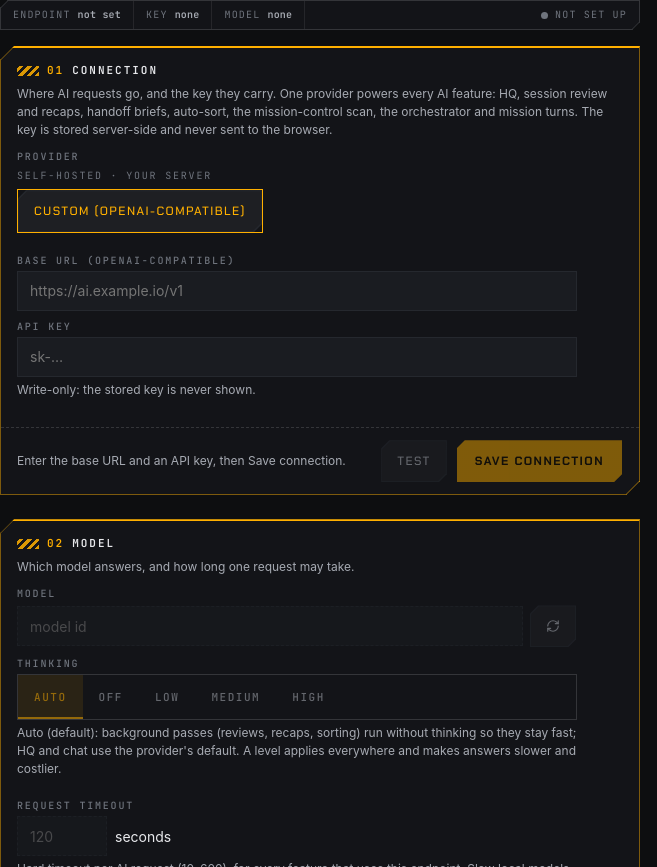
Test: an endpoint that can't list models is saved, and step 02 takes a typed id
Type "https://gw.example.org/openai" into the field labelled "Base URL (OpenAI-compatible)" at (297, 291), box [17,271,577,311]
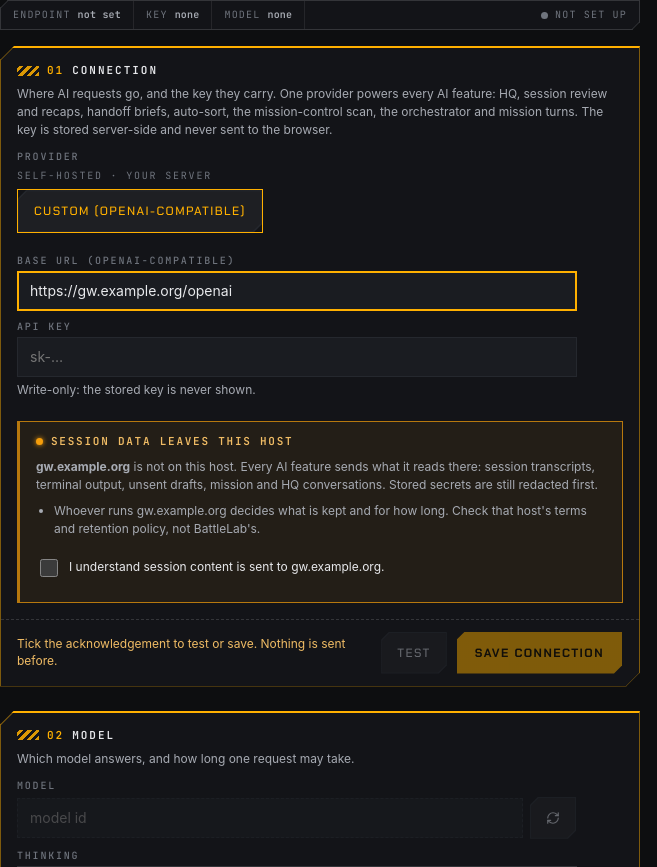
Click the checkbox labelled "I understand session content is sent to gw.example.org." at (49, 568), box [40,559,58,577]
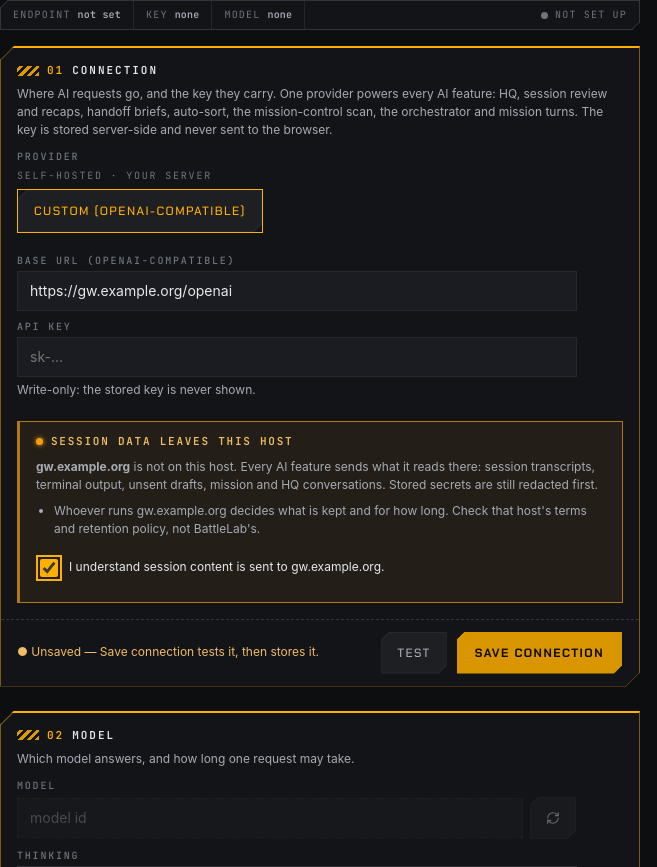
Type "sk-x" into the password field labelled "API key" at (297, 357), box [17,337,577,377]
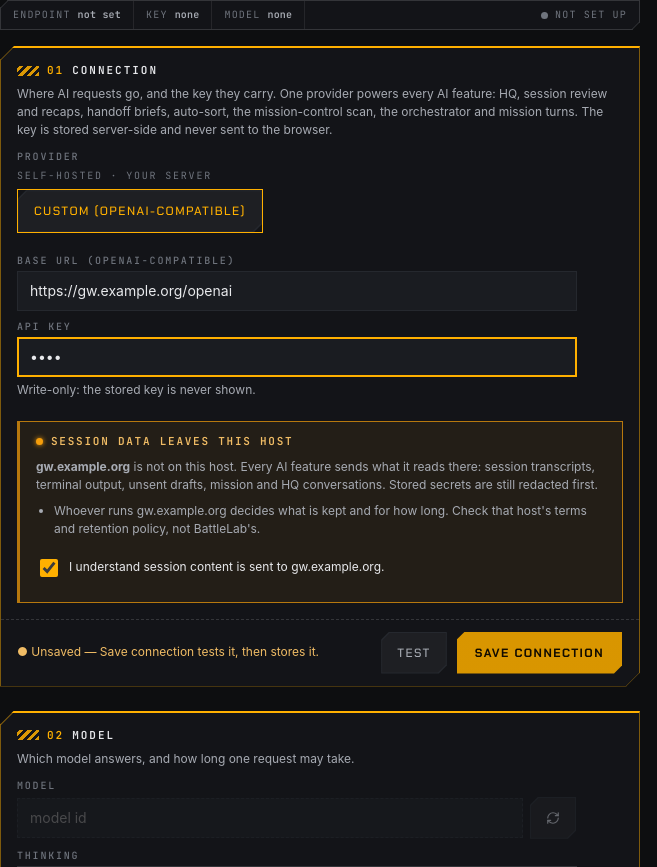
Click the button "Save connection" at (539, 653), box [456,631,623,675]
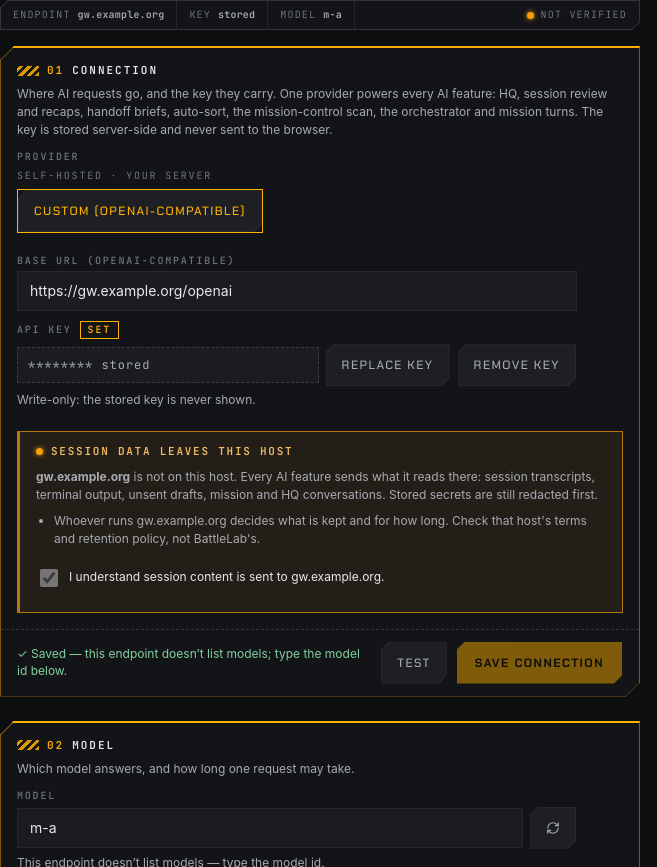
Expected: the text "✓ Saved — this endpoint doesn’t list models; type the model id below." is shown, [17,646,370,679]
Expected: the field labelled "Model" is enabled, [17,808,523,848]
